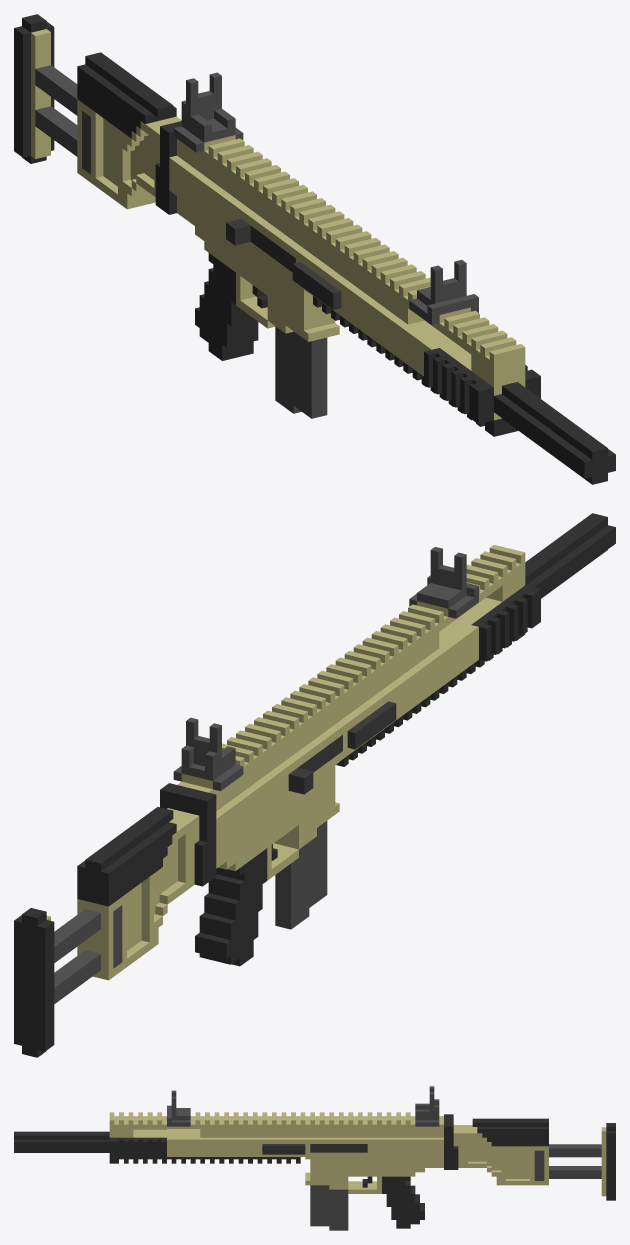
The model's file is SniperRifle_2.obj.
The picture shows the model from 3 angles, top to bottom: view 1: azimuth 30°, elevation 25°; view 2: azimuth 150°, elevation 25°; view 3: azimuth 270°, elevation 25°; orthographic projection. The views are drawn at different scales.
Size of the model in its own units: 9 by 32 by 126.
1 material, 1 textured.
